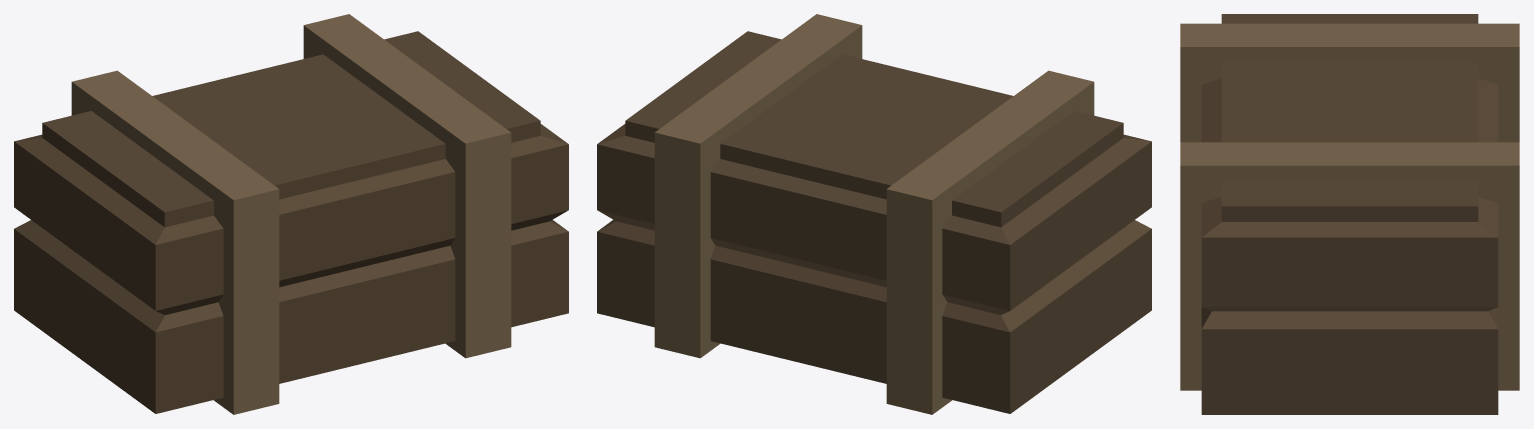
Rendered from SM_Prop_Crate_02.glb.
3 views of the same model, side by side, from view 1: azimuth 30°, elevation 25°; view 2: azimuth 150°, elevation 25°; view 3: azimuth 270°, elevation 25° (orthographic). The views are drawn at different scales.
Parts seen in each view (by area): view 1: SM_Prop_Crate_02; view 2: SM_Prop_Crate_02; view 3: SM_Prop_Crate_02.
Boxes of the visible parts, x1,y1,x2,y2 form: SM_Prop_Crate_02: [14, 14, 568, 414]; SM_Prop_Crate_02: [597, 14, 1151, 414]; SM_Prop_Crate_02: [1180, 14, 1519, 414].
Bounding box in the file's own units: 0.0065 × 0.00323 × 0.00441.
1 material, 1 textured.
